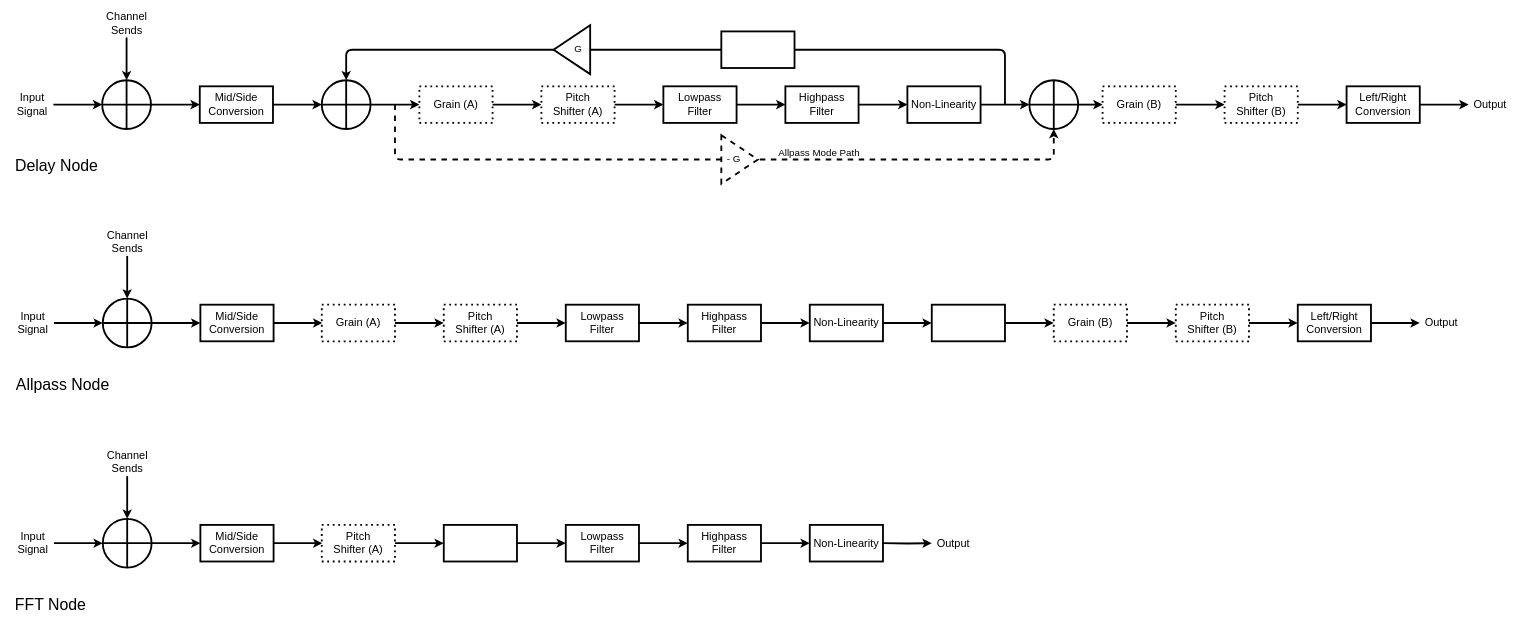
The diagram is 1521 pixels wide and 625 high, and some of its shapes have lost their labels. Here are the shapes that lost their labels. From the top down, the centre of each, then its label:
At (x=757, y=49): "Delay".
At (x=968, y=322): "Allpass Reverb".
At (x=480, y=543): "FFT Reverb".
